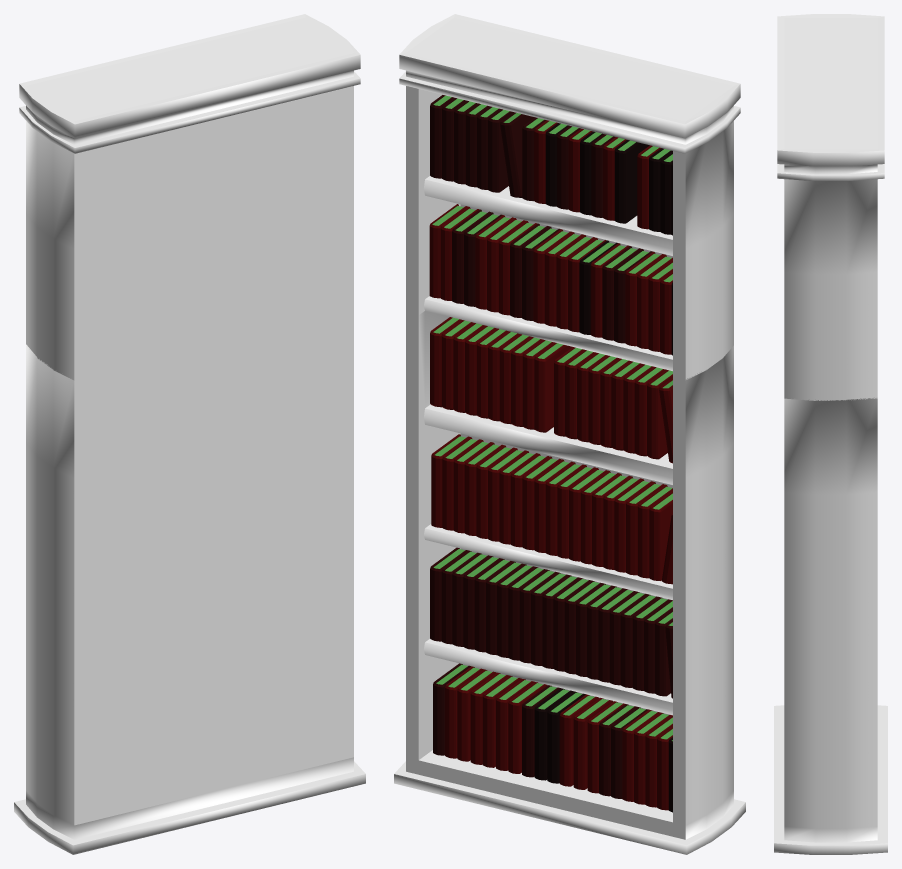
The model's file is Tall4.fbx.
3 views of the same model, side by side, from view 1: azimuth 30°, elevation 25°; view 2: azimuth 150°, elevation 25°; view 3: azimuth 270°, elevation 25° (orthographic). The views are drawn at different scales.
Parts seen in each view (by area): view 1: Book Shelf.005; view 2: Book Shelf.005; view 3: Book Shelf.005.
Boxes of the visible parts, x1,y1,x2,y2 form: Book Shelf.005: (14, 14, 365, 854); Book Shelf.005: (394, 14, 745, 854); Book Shelf.005: (774, 14, 887, 854).
Size of the model in its own units: 1127 by 2586 by 381.
